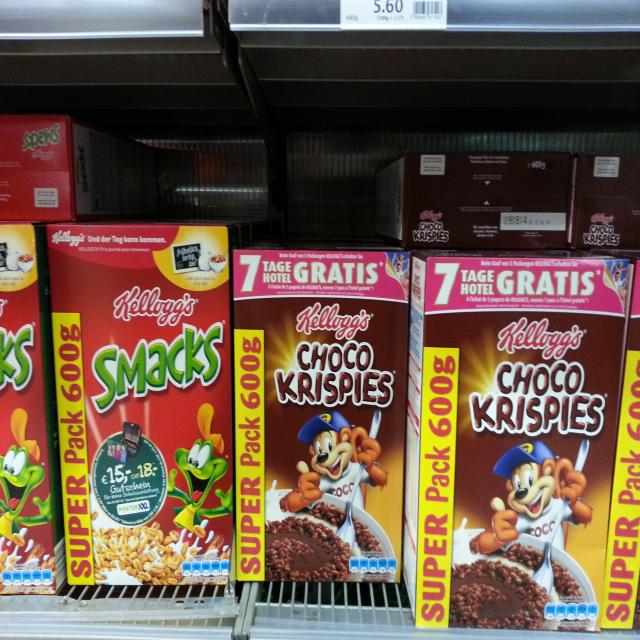Cereals: (412, 256, 640, 633), (43, 226, 228, 594), (236, 250, 405, 581), (399, 154, 632, 256), (0, 224, 61, 592), (0, 111, 135, 222)
